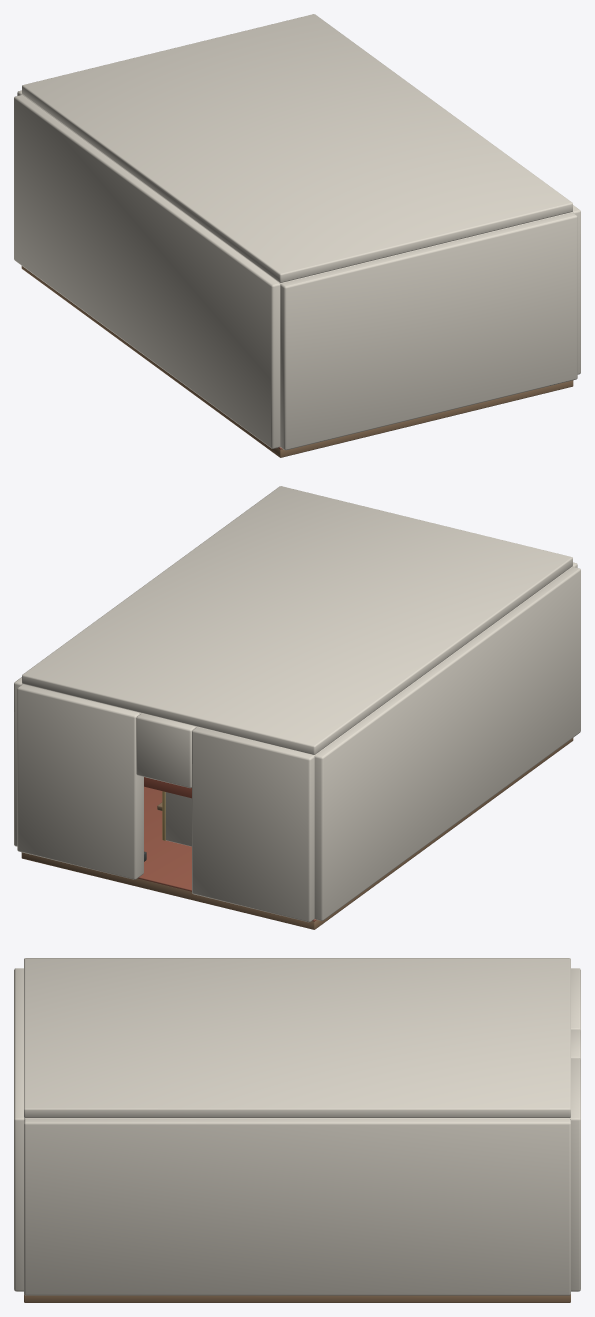
File: hab_apartment_v4.glb
3 views of the same model, one above another, from view 1: azimuth 30°, elevation 25°; view 2: azimuth 150°, elevation 25°; view 3: azimuth 270°, elevation 25° (orthographic). The views are drawn at different scales.
Visible parts, largest first — view 1: HabApartment; view 2: HabApartment; view 3: HabApartment.
Part boxes in pixels (box(x1,y1,x2,y2)): HabApartment: box(14, 14, 580, 457); HabApartment: box(14, 486, 580, 929); HabApartment: box(14, 958, 580, 1302).
Bounding box in the file's own units: 6.9 × 3.92 × 10.36.
